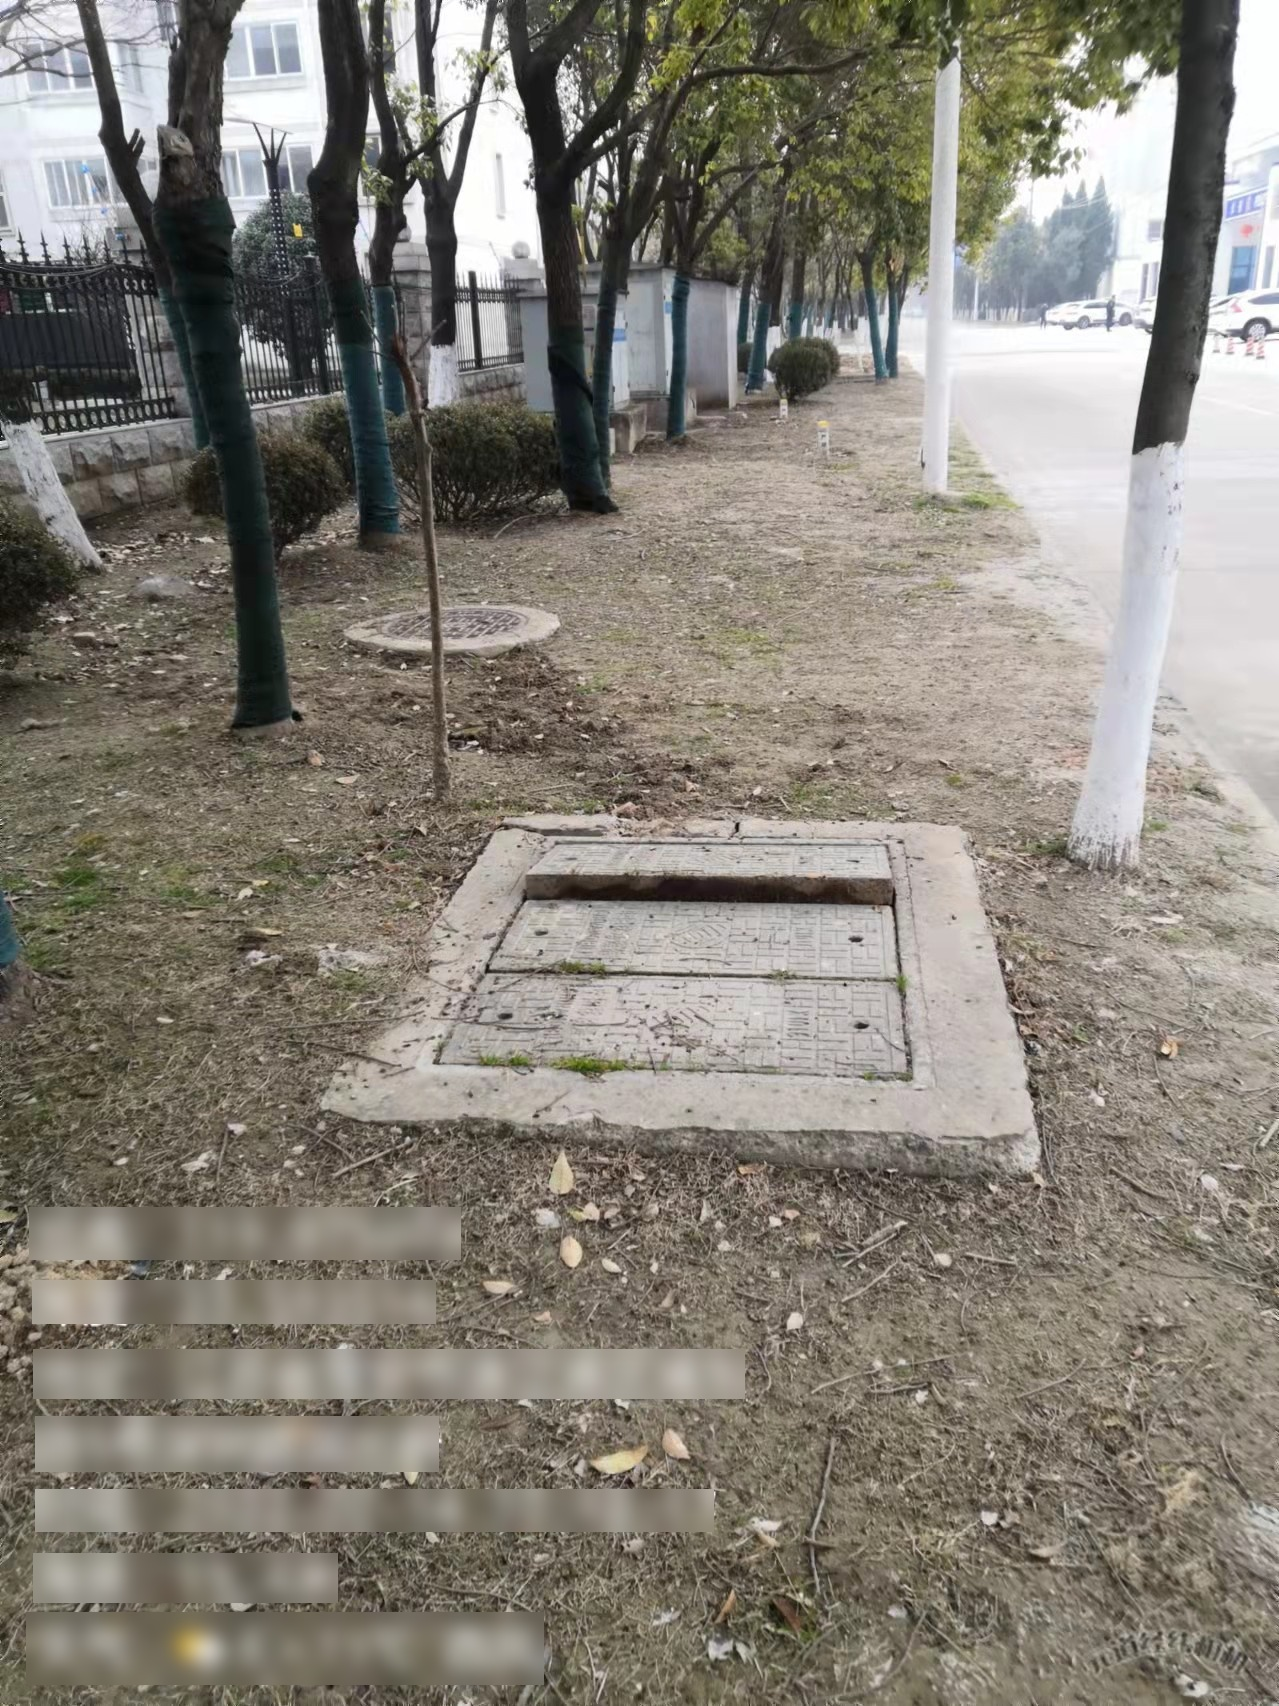good: (341, 607, 537, 657)
uncovered: (412, 827, 934, 1096)
